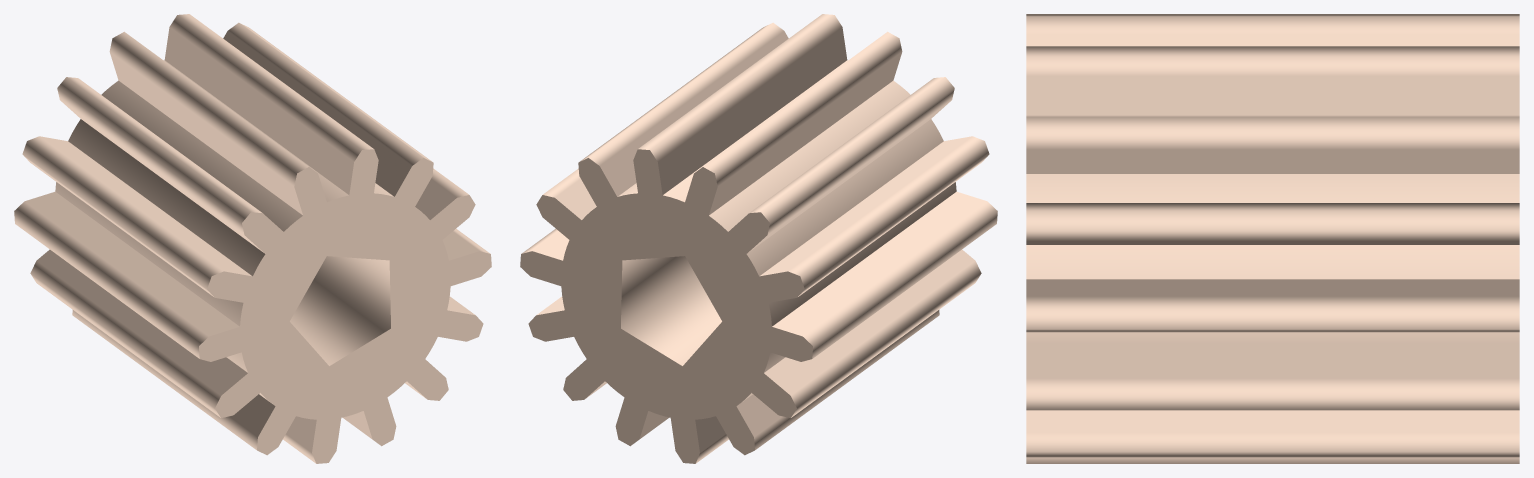
The model's file is Pignon_Roue de temps.obj.
3 renders of one model, left to right at view 1: azimuth 30°, elevation 25°; view 2: azimuth 150°, elevation 25°; view 3: azimuth 270°, elevation 25°, orthographic. The views are drawn at different scales.
Visible parts, largest first — view 1: Face_1, Face_59, Face_43, Face_44, Face_48, Face_53, Face_50, Face_40, Face_52, Face_36, Face_46, Face_56 (+13 smaller); view 2: Face_2, Face_59, Face_43, Face_44, Face_48, Face_53, Face_50, Face_40, Face_52, Face_36, Face_46, Face_56 (+13 smaller); view 3: Face_37, Face_28, Face_24, Face_27, Face_30, Face_32, Face_20, Face_36, Face_34, Face_16, Face_33, Face_23 (+7 smaller).
Boxes of the visible parts, left/top/right/bottom form: Face_1: left=199, top=149, right=491, bottom=463; Face_59: left=290, top=256, right=390, bottom=365; Face_43: left=164, top=27, right=353, bottom=194; Face_44: left=57, top=77, right=262, bottom=234; Face_48: left=22, top=136, right=223, bottom=296; Face_53: left=25, top=191, right=239, bottom=336; Face_50: left=68, top=119, right=265, bottom=276; Face_40: left=109, top=31, right=308, bottom=186; Face_52: left=14, top=201, right=208, bottom=358; Face_36: left=169, top=14, right=373, bottom=161; Face_46: left=101, top=80, right=302, bottom=231; Face_56: left=37, top=249, right=247, bottom=395; Face_2: left=520, top=149, right=812, bottom=463; Face_59: left=621, top=256, right=721, bottom=365; Face_43: left=658, top=27, right=847, bottom=194; Face_44: left=749, top=77, right=954, bottom=234; Face_48: left=788, top=136, right=989, bottom=296; Face_53: left=772, top=191, right=986, bottom=336; Face_50: left=746, top=119, right=943, bottom=276; Face_40: left=703, top=31, right=902, bottom=186; Face_52: left=803, top=201, right=997, bottom=358; Face_36: left=638, top=14, right=842, bottom=161; Face_46: left=709, top=80, right=910, bottom=231; Face_56: left=764, top=249, right=974, bottom=395; Face_37: left=1026, top=76, right=1519, bottom=115; Face_28: left=1026, top=203, right=1519, bottom=241; Face_24: left=1026, top=296, right=1519, bottom=332; Face_27: left=1026, top=343, right=1519, bottom=378; Face_30: left=1026, top=245, right=1519, bottom=279; Face_32: left=1026, top=116, right=1519, bottom=149; Face_20: left=1026, top=378, right=1519, bottom=410; Face_36: left=1026, top=46, right=1519, bottom=75; Face_34: left=1026, top=174, right=1519, bottom=202; Face_16: left=1026, top=433, right=1519, bottom=457; Face_33: left=1026, top=149, right=1519, bottom=173; Face_23: left=1026, top=410, right=1519, bottom=432.
Size of the model in its own units: 0.0124 by 0.0123 by 0.0135.
